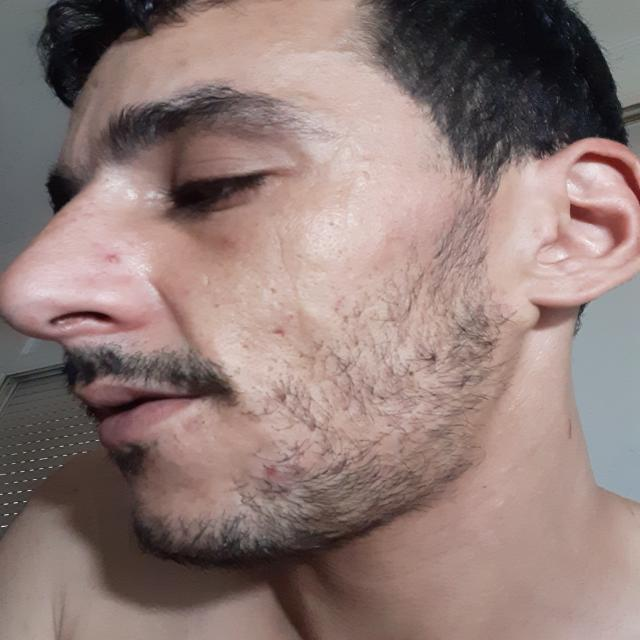Acne: (214, 237, 240, 253), (101, 250, 122, 268), (173, 55, 192, 71), (261, 464, 282, 478), (90, 78, 100, 90)
Englarged-Pores: (217, 283, 308, 369)
